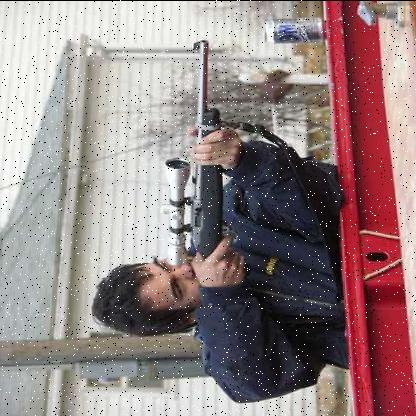rifle: (150, 32, 271, 293)
